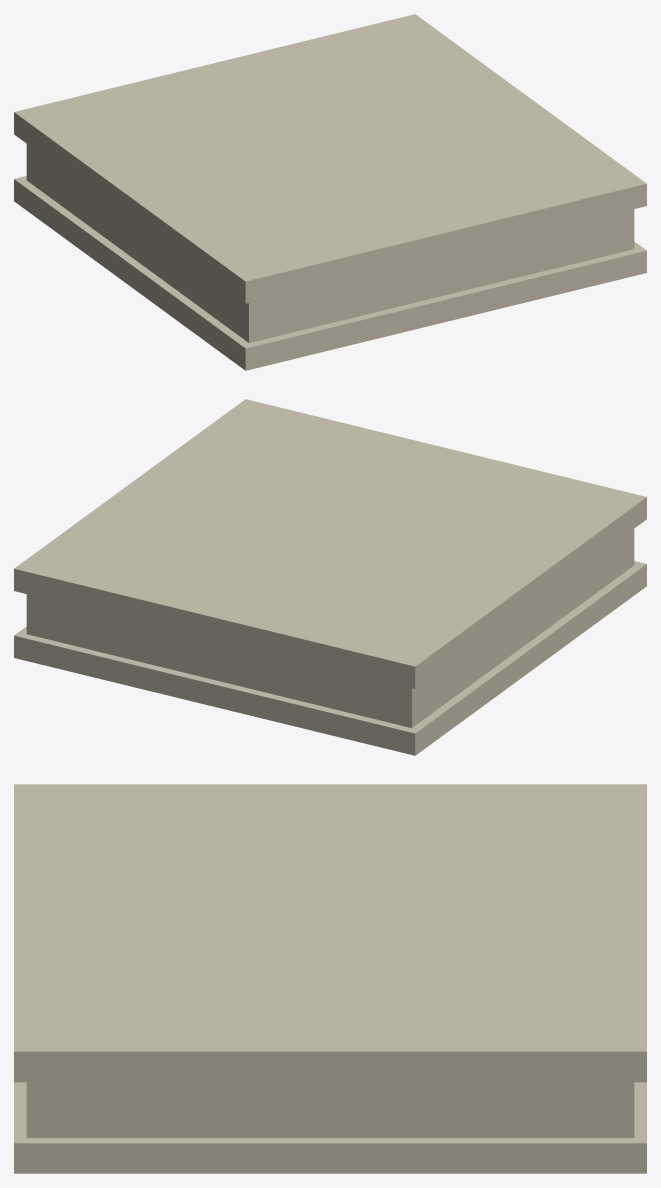
The model's file is modularbuildings_003.glb.
3 views of the same model, one above another, from view 1: azimuth 30°, elevation 25°; view 2: azimuth 150°, elevation 25°; view 3: azimuth 270°, elevation 25° (orthographic). The views are drawn at different scales.
Parts seen in each view (by area): view 1: Mesh1 Group1 Model; view 2: Mesh1 Group1 Model; view 3: Mesh1 Group1 Model.
Part boxes in pixels (x1,y1,x2,y2): Mesh1 Group1 Model: [14, 14, 646, 370]; Mesh1 Group1 Model: [14, 399, 646, 755]; Mesh1 Group1 Model: [14, 784, 646, 1173].
Size of the model in its own units: 1 by 0.2125 by 1.
